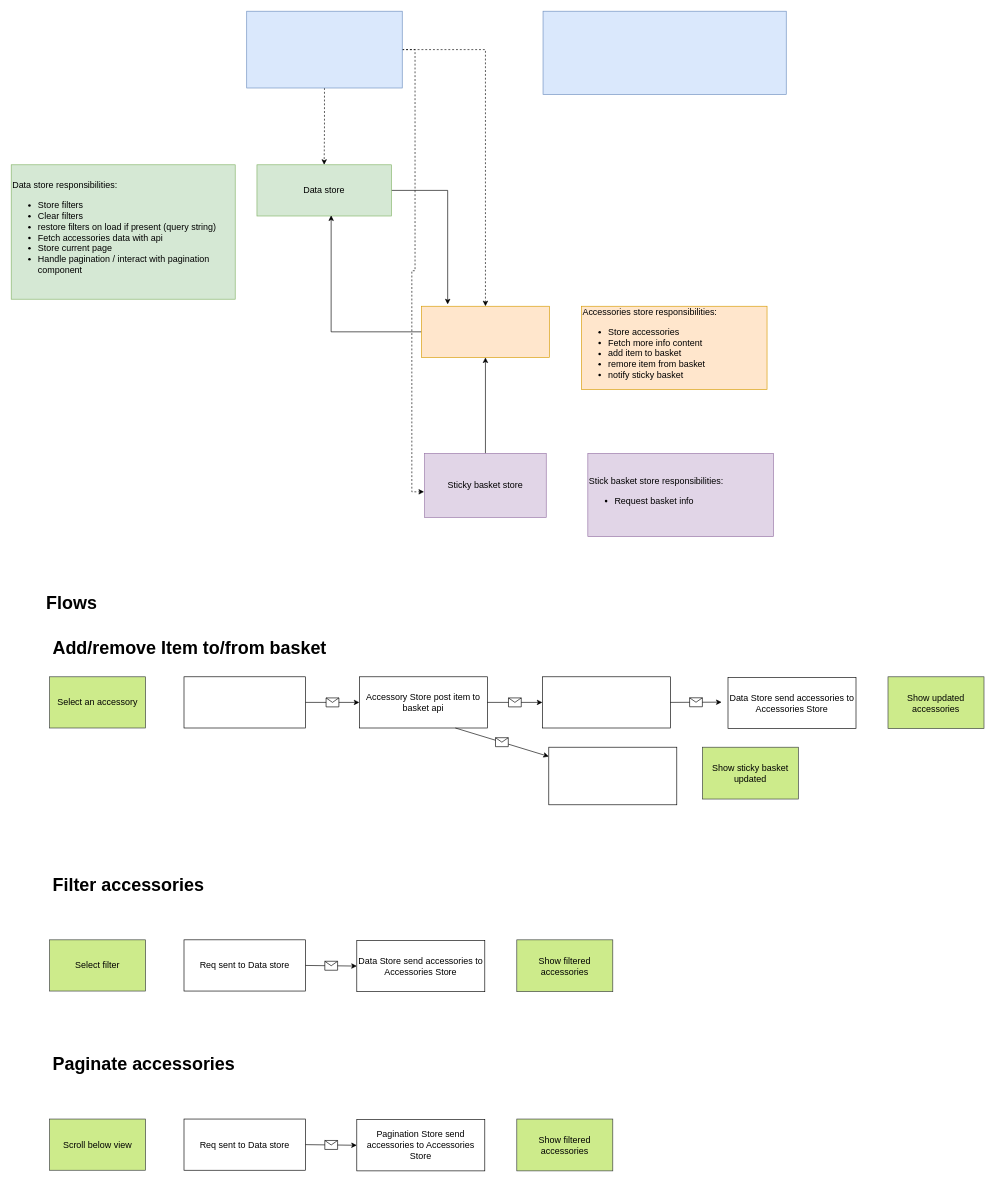
The diagram is 995 pixels wide and 1182 high, and some of its shapes have lost their labels. The centre of each missing label's shape, as x and y in pixels:
"Accessories page store (or main store)" goes at [324,49].
"Accessories store" goes at [485,331].
"Accessory Store notify Sticky basket Store" goes at [612,776].
"Accessory Store send accessories req to Data Store" goes at [606,702].
"Main store responsibilities: initialise stores notify page when ready to load" goes at [664,52].
"Req add item to basket to Accessory store" goes at [244,702].
